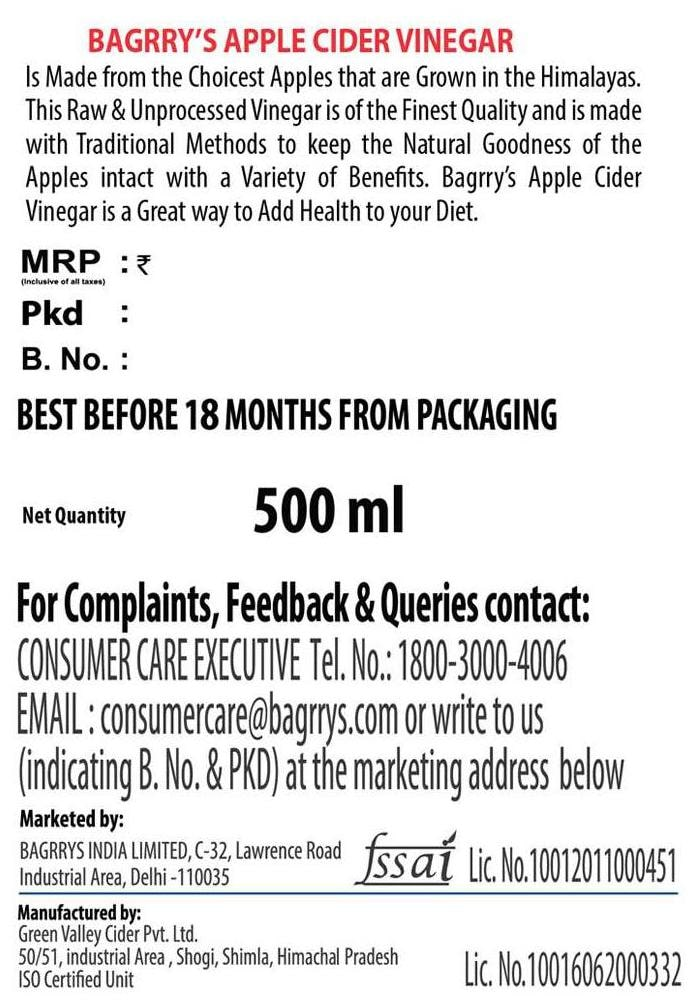fssai: (356, 829, 460, 886)
